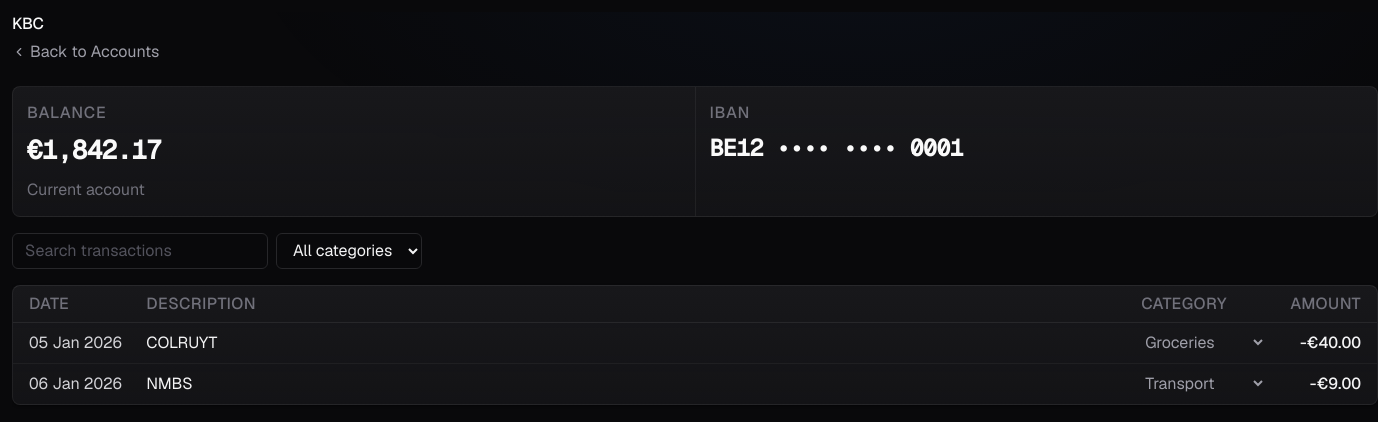
Test: AccountTransactions › filters by category
The width and height of the screenshot is (1378, 422).
Select "Transport" in the dropdown named "Filter by category" at coordinates (349, 251), box [276,233,422,269]
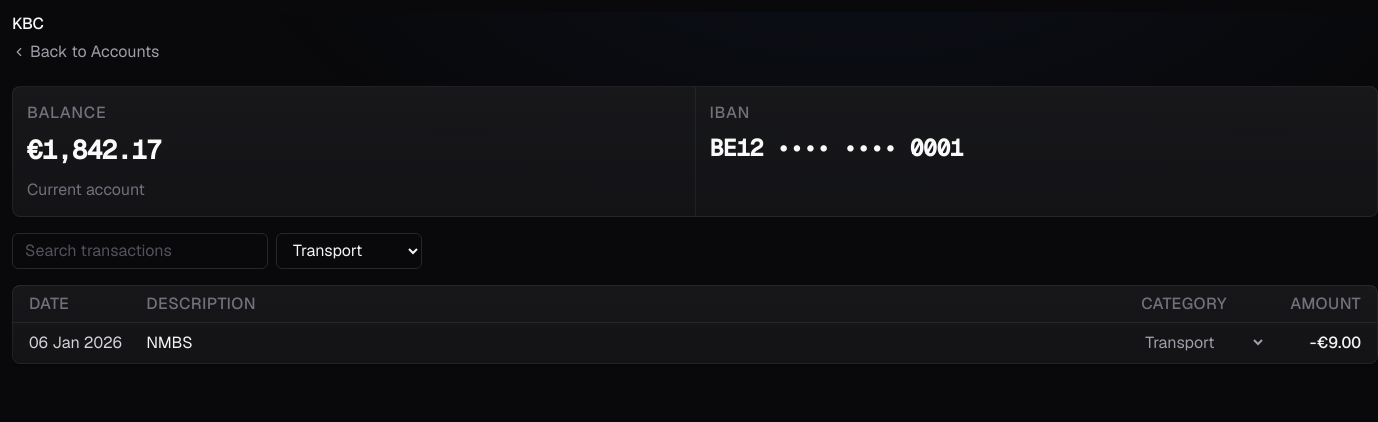
Check: the text "NMBS" is shown, box [146,332,192,353]
Check: the text "COLRUYT" is gone
